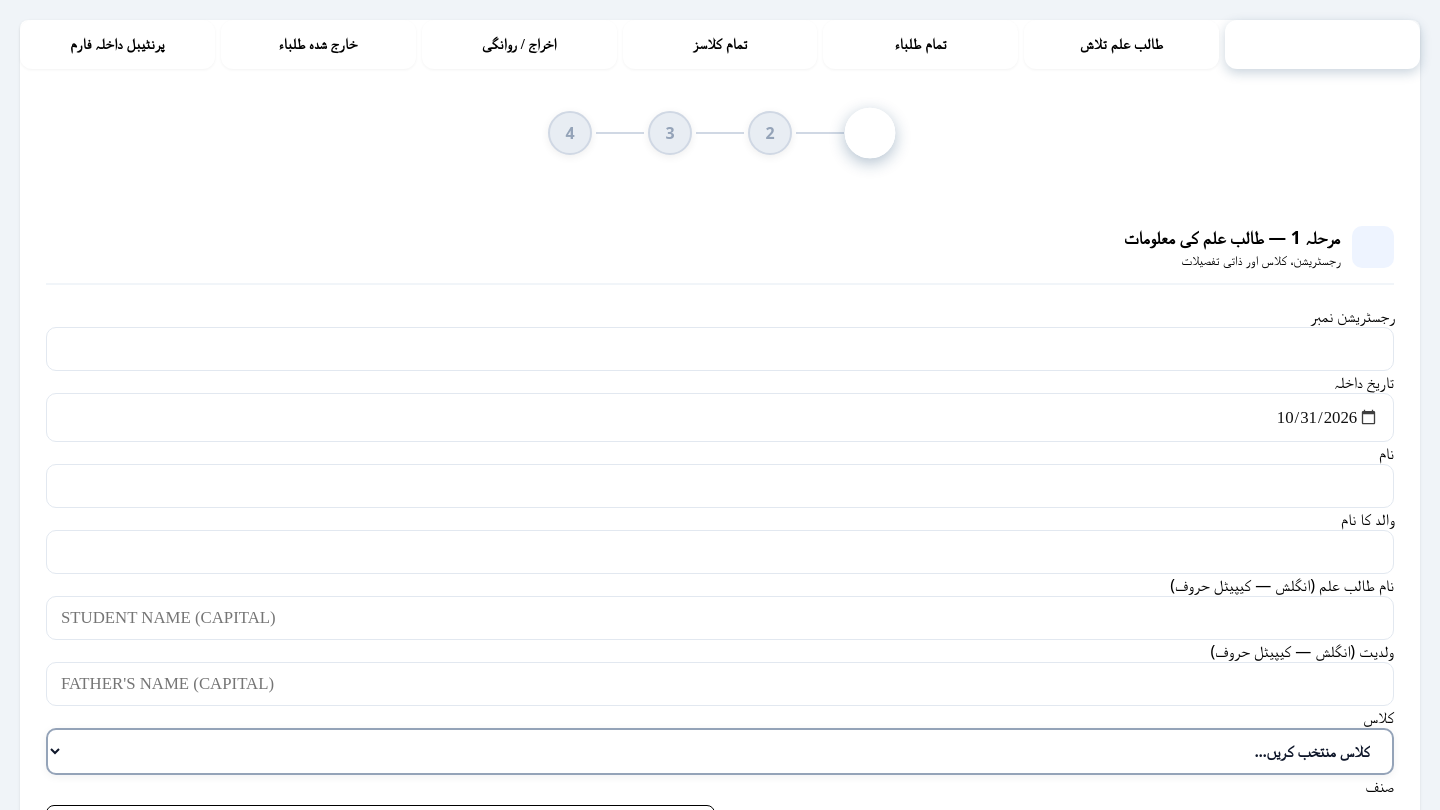
Classes Management in Admissions ("All Classes" tab) › allows adding a new class independently
The width and height of the screenshot is (1440, 810).
Click the button "تمام کلاسز" at x=720, y=44, box left=623, top=20, right=818, bottom=69
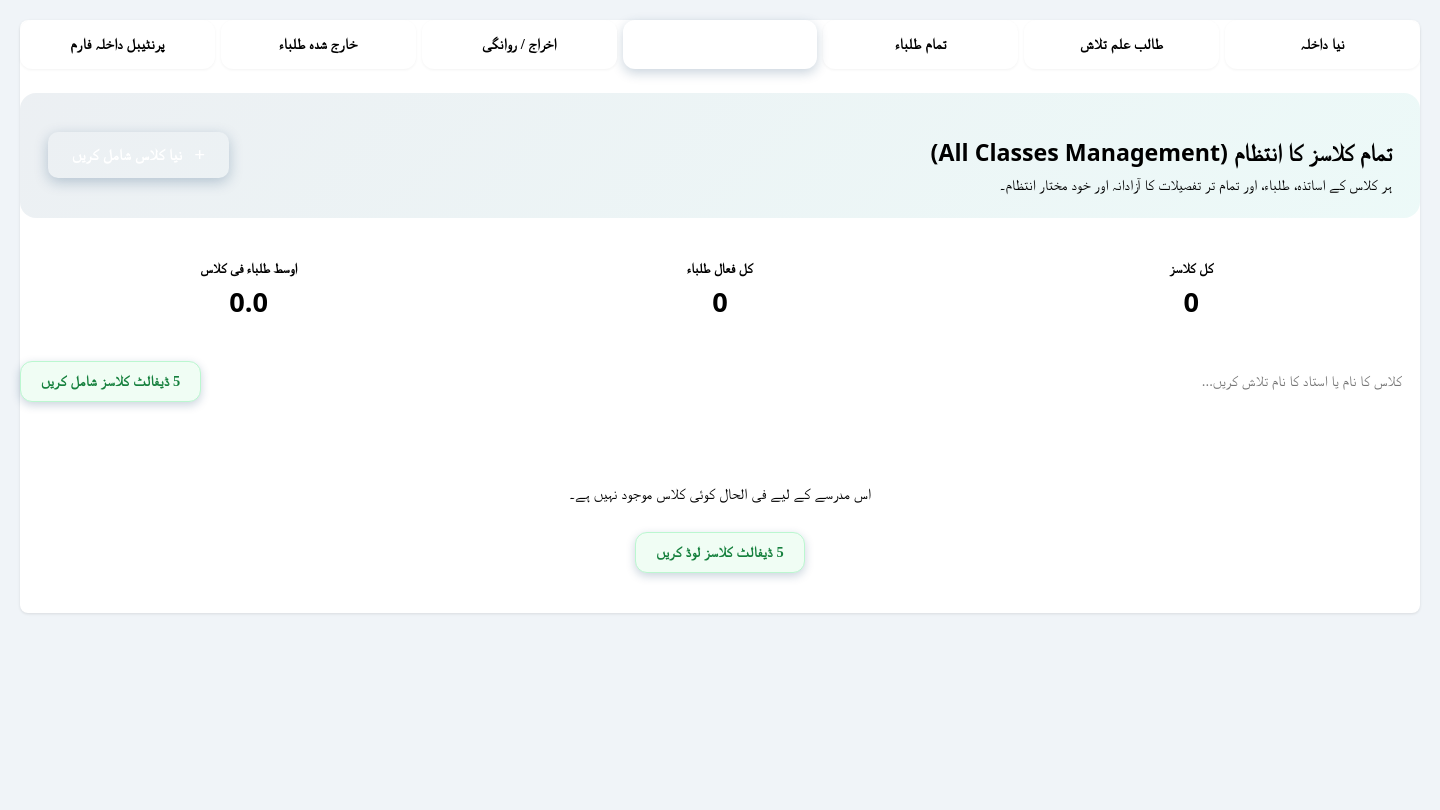
expect the button "+ نیا کلاس شامل کریں" is shown: met
// Click Add New Class
Click the button "+ نیا کلاس شامل کریں" at x=139, y=155, box left=48, top=132, right=229, bottom=178
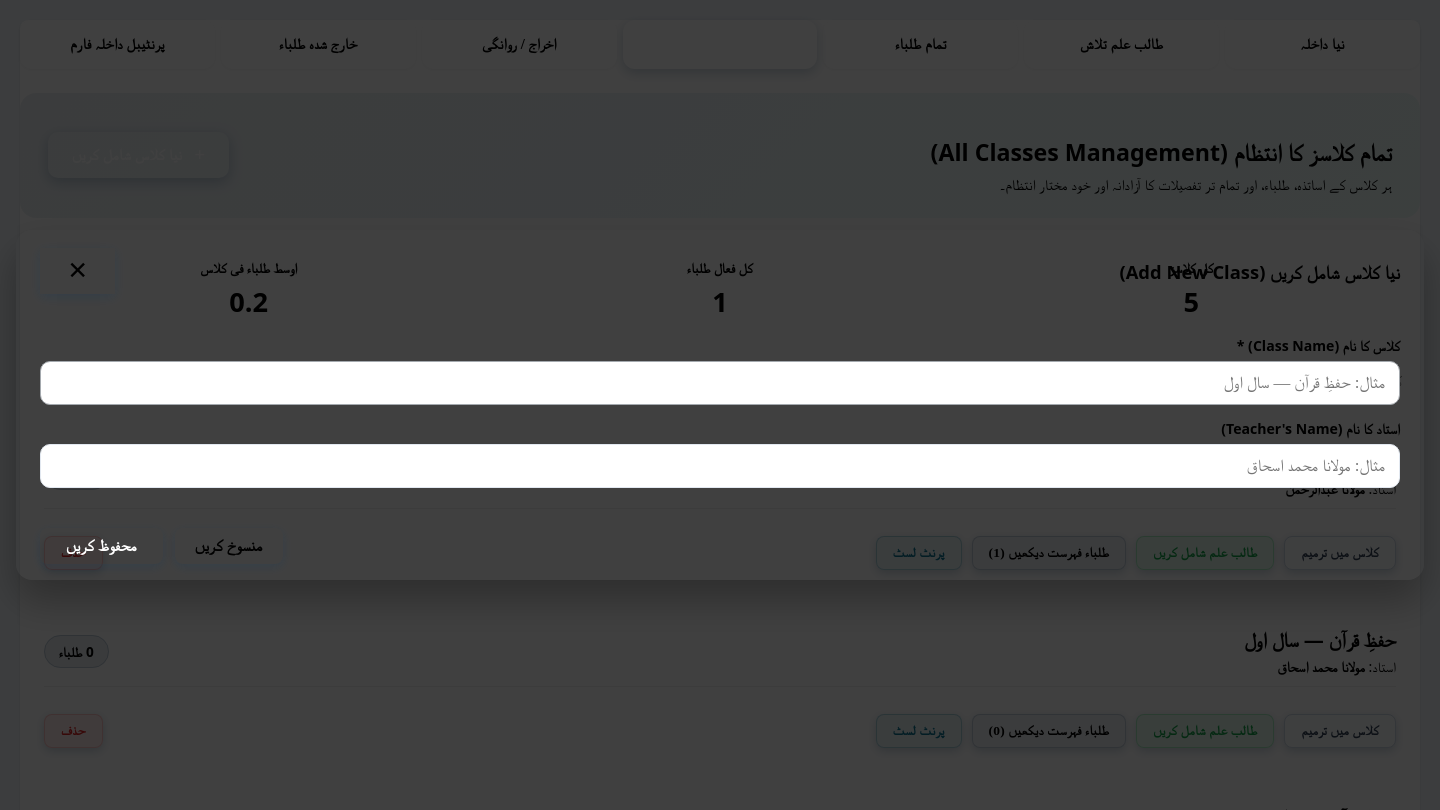
expect the heading "نیا کلاس شامل کریں (Add New Class)" is shown: met, box left=1119, top=258, right=1400, bottom=284
Type "حفظِ قرآن — سال پنجم" into the field labelled "کلاس کا نام (Class Name) *" at x=720, y=383, box left=40, top=361, right=1400, bottom=405
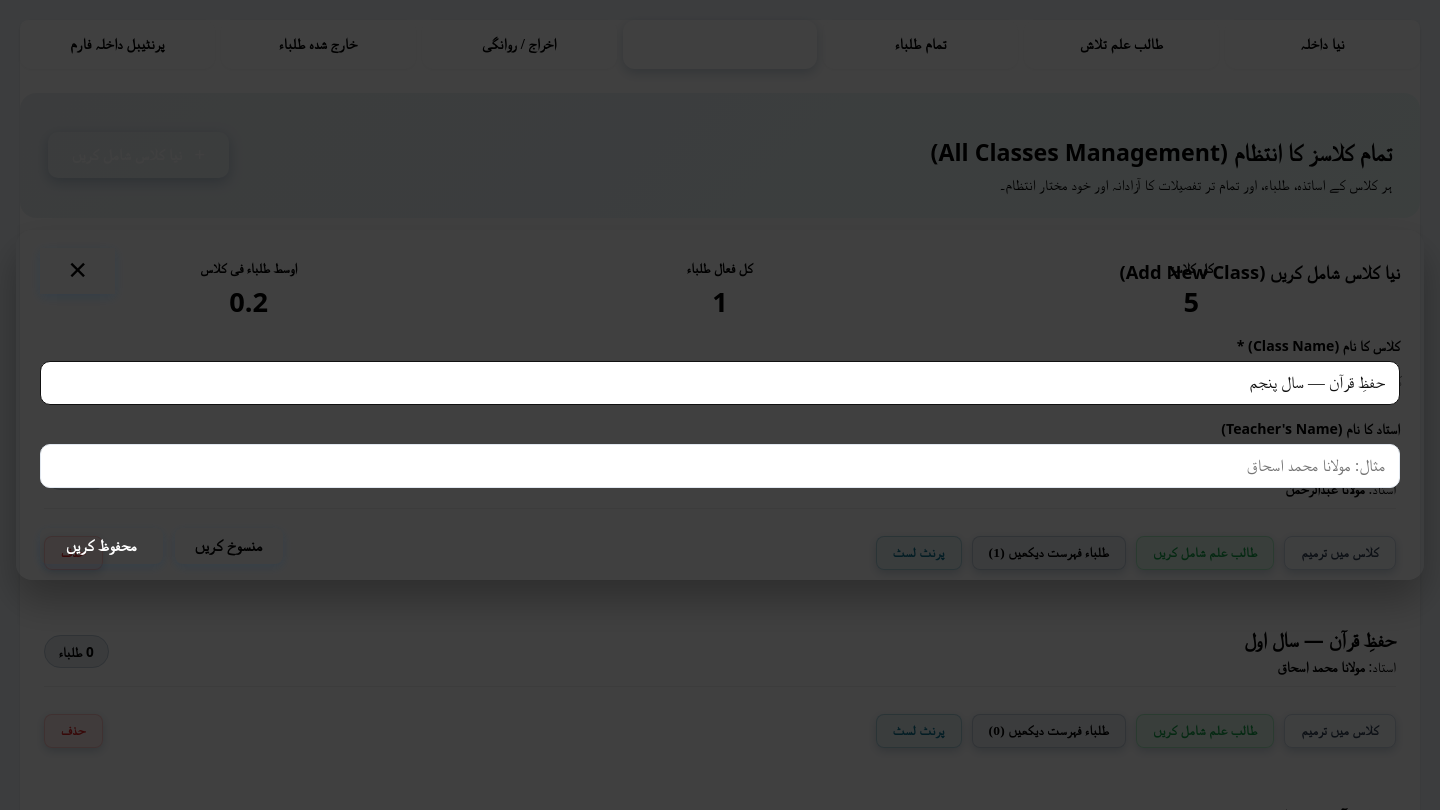
Type "مولانا بلال" into the field labelled "استاد کا نام (Teacher's Name)" at x=720, y=466, box left=40, top=444, right=1400, bottom=488
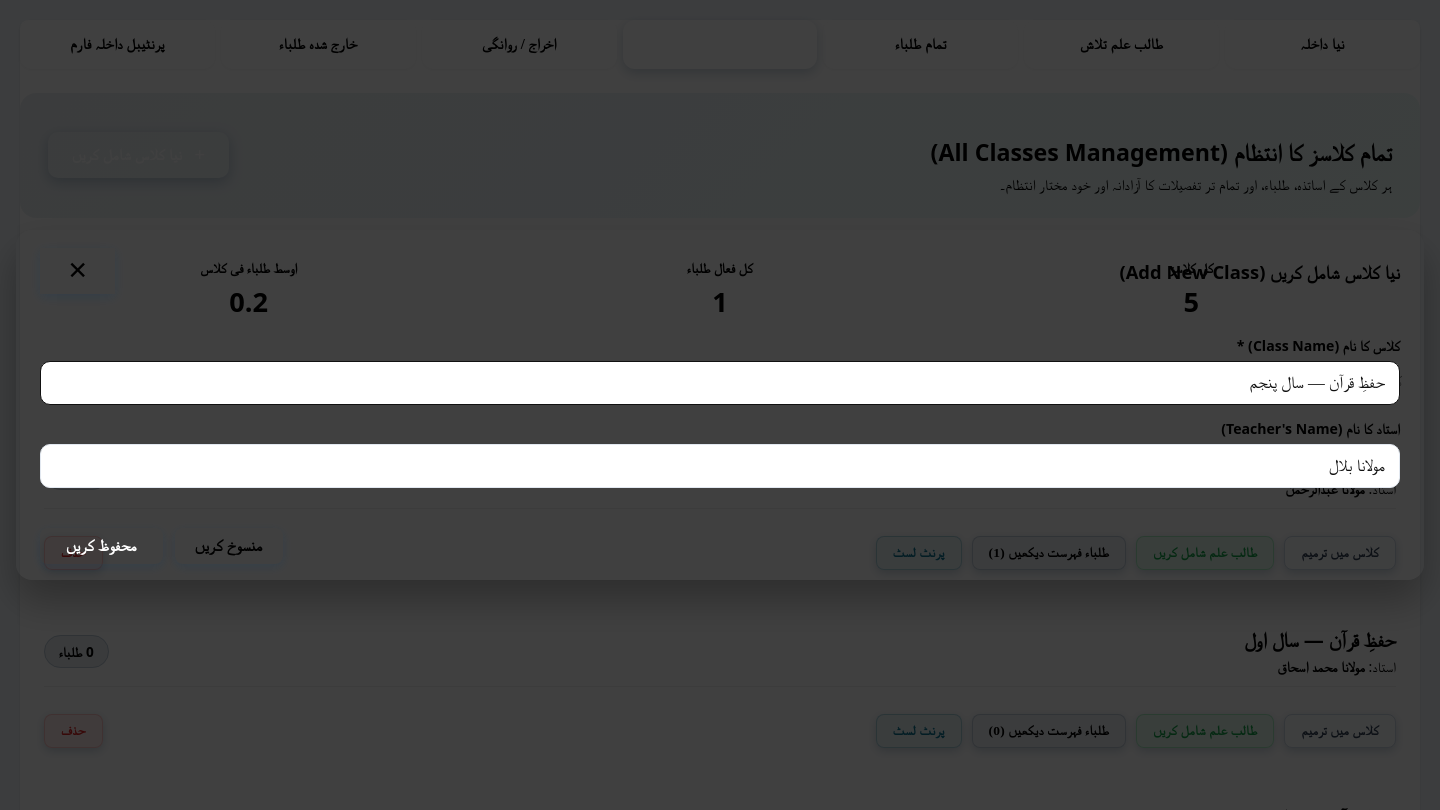
// Click Save
Click the button "محفوظ کریں" at x=101, y=546, box left=40, top=528, right=163, bottom=564
(page scrolled)
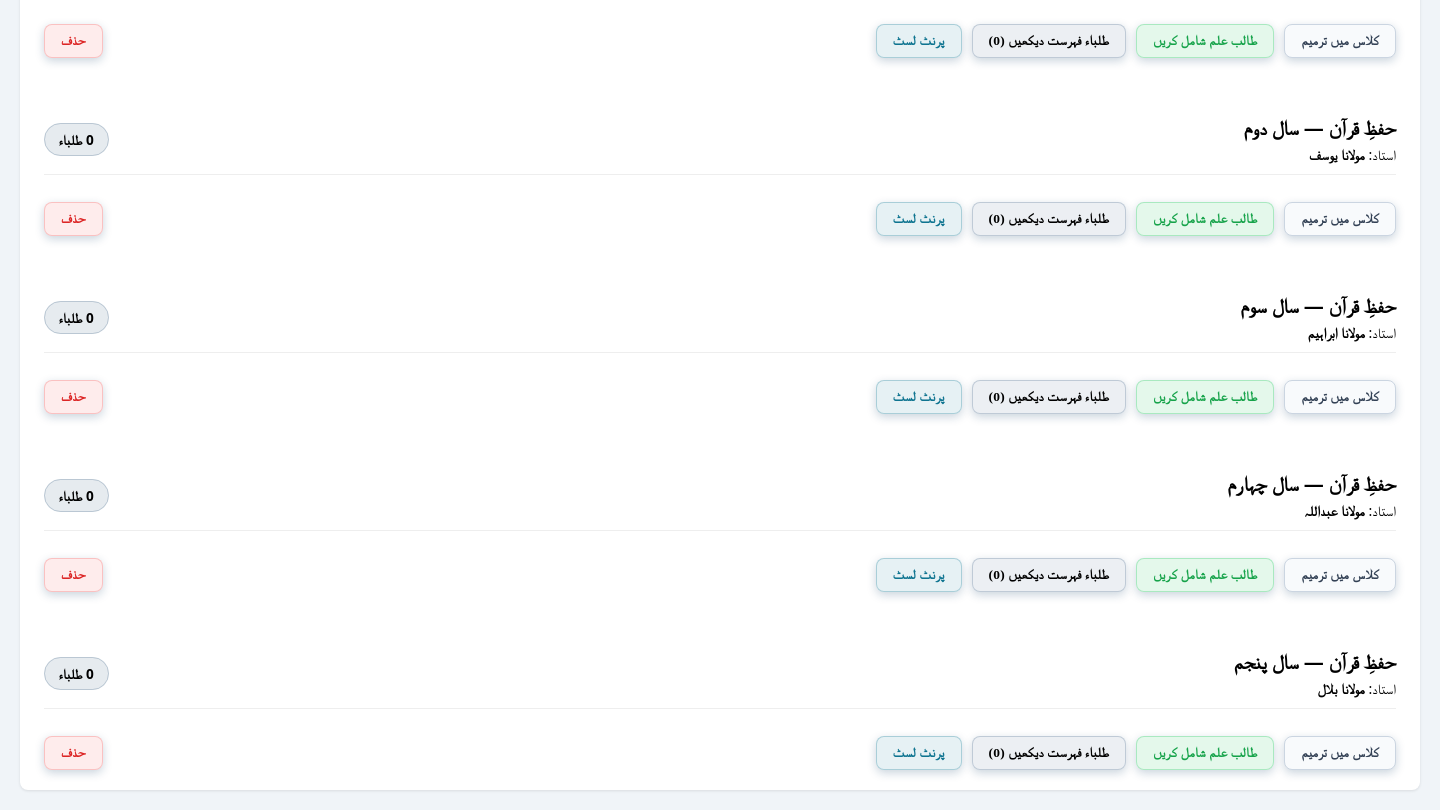
expect the heading "حفظِ قرآن — سال پنجم" is shown: met, box left=1234, top=648, right=1396, bottom=675
